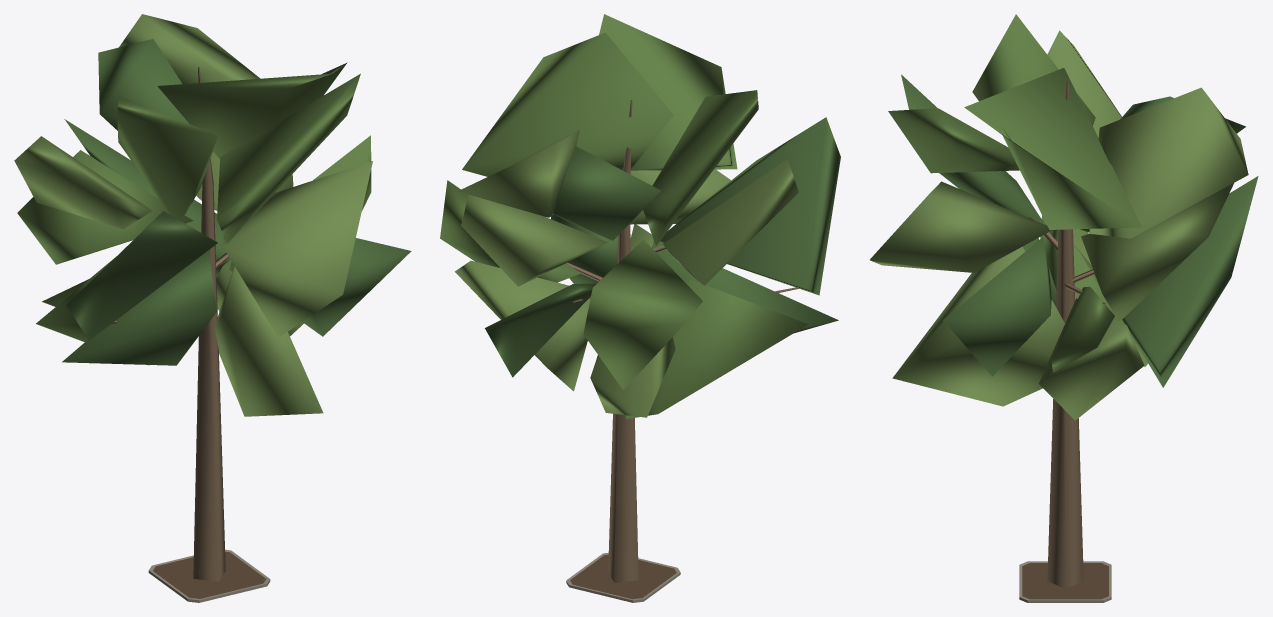
The model's file is street-tree-low.glb.
3 renders of one model, left to right at view 1: azimuth 30°, elevation 25°; view 2: azimuth 150°, elevation 25°; view 3: azimuth 270°, elevation 25°, orthographic. The views are drawn at different scales.
Size of the model in its own units: 4.51 by 6.2 by 4.24.
